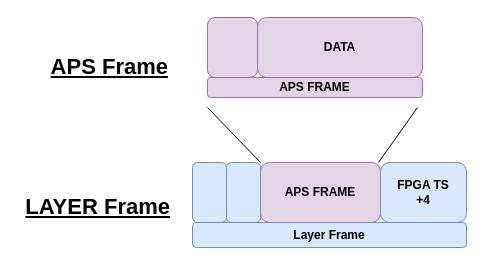
The diagram is 484 pixels wide and 265 high, and some of its shapes have lost their labels. The box of each missing label's shape, as (x1, y1, x2, y2) in pixels:
HEAD: (206, 16, 258, 78)
ID: (226, 162, 260, 222)
LEN: (192, 162, 226, 222)
